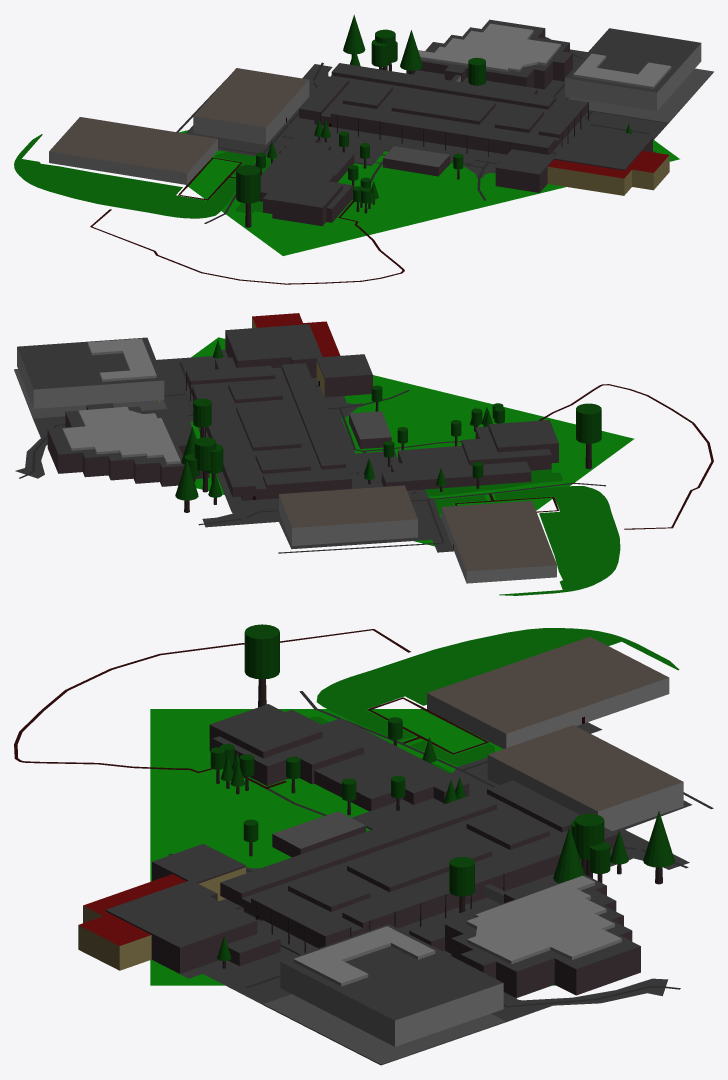
File: Sitzbank.obj
3 renders of one model, top to bottom at view 1: azimuth 30°, elevation 25°; view 2: azimuth 150°, elevation 25°; view 3: azimuth 270°, elevation 25°, orthographic. The views are drawn at different scales.
Parts seen in each view (by area): view 1: object 290, SurfaceArea280, object 279, object 281, object 287, object 277, object 283, SurfaceArea274, object 282, SurfaceArea275, Forest279, Building Container 3 (+2 smaller); view 2: object 290, SurfaceArea280, object 279, object 287, object 283, object 277, object 281, object 282, SurfaceArea274, SurfaceArea275, Forest279, Building Container 3 (+3 smaller); view 3: object 290, object 279, SurfaceArea280, object 287, object 281, object 277, object 283, object 282, SurfaceArea274, SurfaceArea275, Forest279, Building Container 3 (+3 smaller).
Part boxes in pixels (<box>): object 290: <box>281,63,593,165</box>; SurfaceArea280: <box>178,130,679,255</box>; object 279: <box>565,28,713,123</box>; object 281: <box>495,127,669,195</box>; object 287: <box>406,19,572,94</box>; object 277: <box>49,117,217,184</box>; object 283: <box>259,134,354,226</box>; SurfaceArea274: <box>14,134,235,218</box>; object 282: <box>193,68,309,144</box>; SurfaceArea275: <box>186,37,667,177</box>; Forest279: <box>343,14,485,85</box>; Building Container 3: <box>383,146,450,176</box>; object 290: <box>183,363,399,512</box>; SurfaceArea280: <box>190,337,634,546</box>; object 279: <box>14,337,167,419</box>; object 287: <box>47,403,209,486</box>; object 283: <box>381,420,558,490</box>; object 277: <box>441,500,556,583</box>; object 281: <box>215,313,372,397</box>; object 282: <box>279,485,417,545</box>; SurfaceArea274: <box>494,486,620,595</box>; SurfaceArea275: <box>15,349,453,552</box>; Forest279: <box>175,398,223,512</box>; Building Container 3: <box>349,411,391,448</box>; object 290: <box>220,780,629,955</box>; object 279: <box>263,924,505,1065</box>; SurfaceArea280: <box>150,709,555,985</box>; object 287: <box>409,875,640,997</box>; object 281: <box>78,843,280,973</box>; object 277: <box>427,636,669,748</box>; object 283: <box>209,704,469,811</box>; object 282: <box>487,725,683,831</box>; SurfaceArea274: <box>316,628,679,741</box>; SurfaceArea275: <box>180,722,692,1022</box>; Forest279: <box>449,811,674,912</box>; Building Container 3: <box>272,811,365,857</box>.
Size of the model in its own units: 285 by 24.29 by 192.
